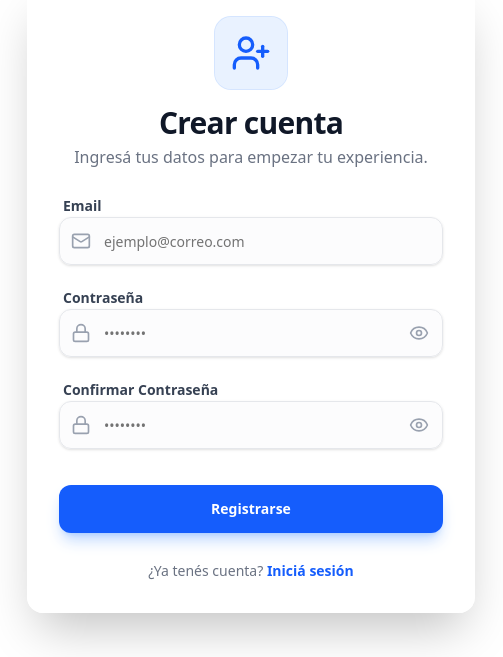
Scenario: Register Page › displays validation errors if password and email are invalid
Type "invalid-email" into the field labelled "Email" at (251, 241), box [59, 217, 443, 265]
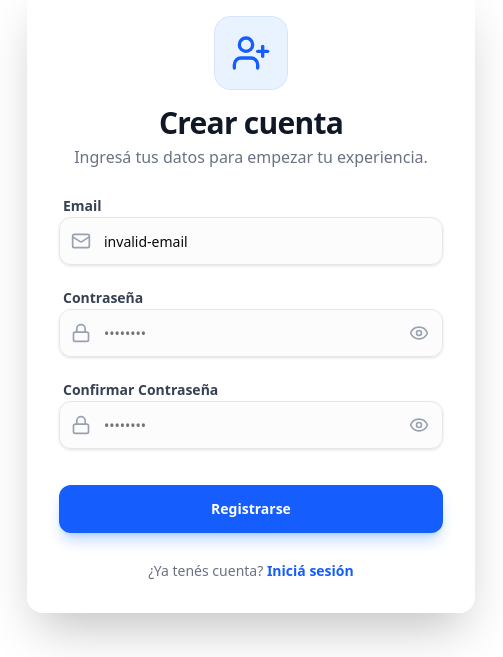
Type "password" into the password field labelled "Contraseña" at (251, 333), box [59, 309, 443, 357]
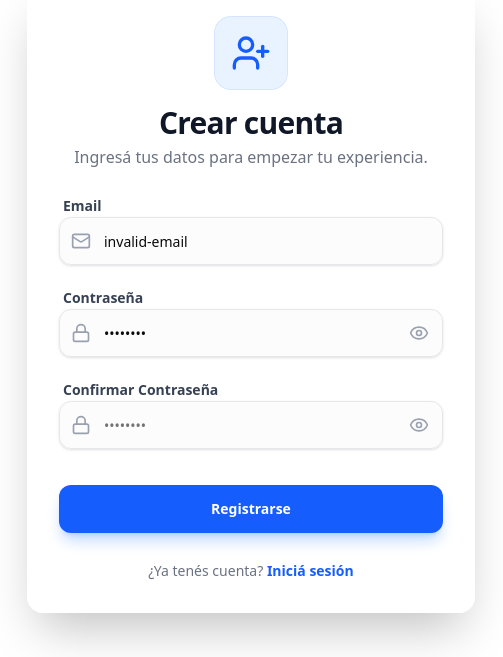
Type "different" into the password field labelled "Confirmar Contraseña" at (251, 425), box [59, 401, 443, 449]
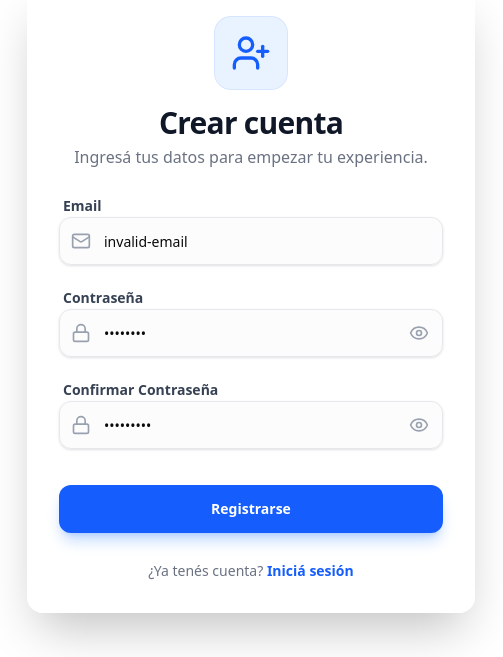
Note: Try to submit
Click the button "Registrarse" at (251, 509), box [59, 485, 443, 533]
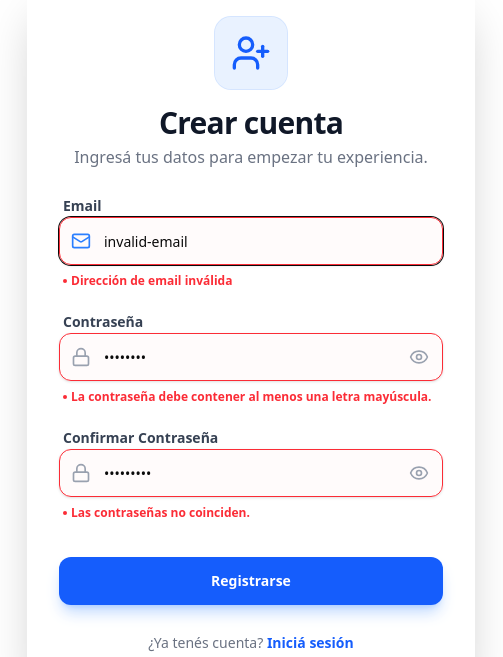
Expected: the text "Dirección de email inválida" is shown, [63, 272, 232, 289]
